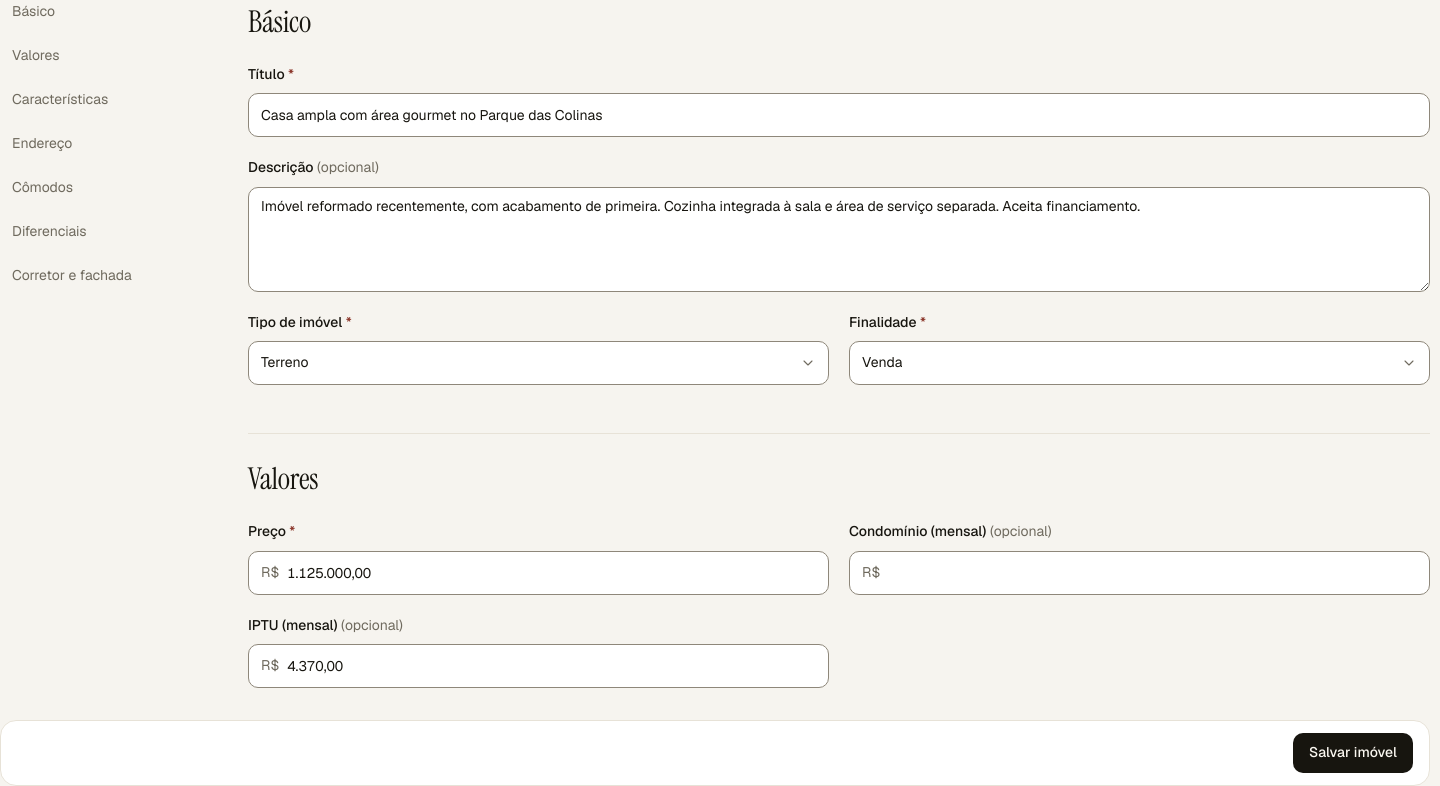
PropertyForm (RF-27) › mostra o erro do schema (terreno com quartos) sem regra no componente
Click the button "Salvar imóvel" at {"x": 1353, "y": 753}, box [1293,733,1413,773]
(page scrolled)
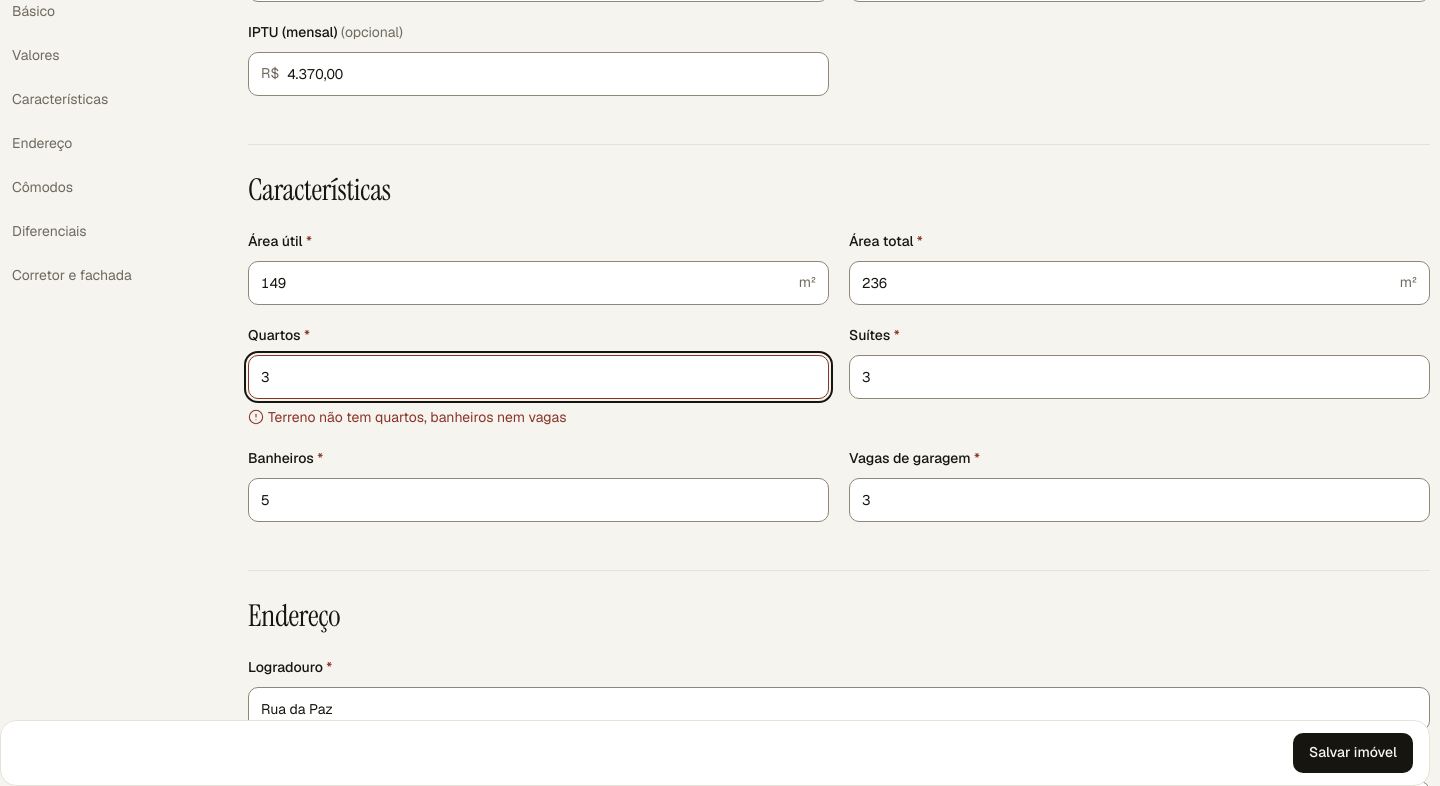
Expected: the text "Terreno não tem quartos, banheiros nem vagas" is shown, [268,406,566,428]
